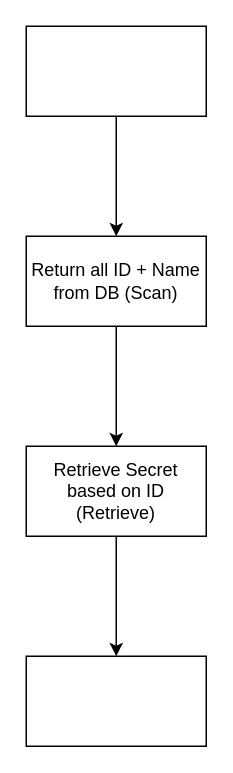
This 233x773 diagram has some shape labels left out. Each missing label, with the centre of its shape:
End: the point at 115,700
Start: the point at 115,70
